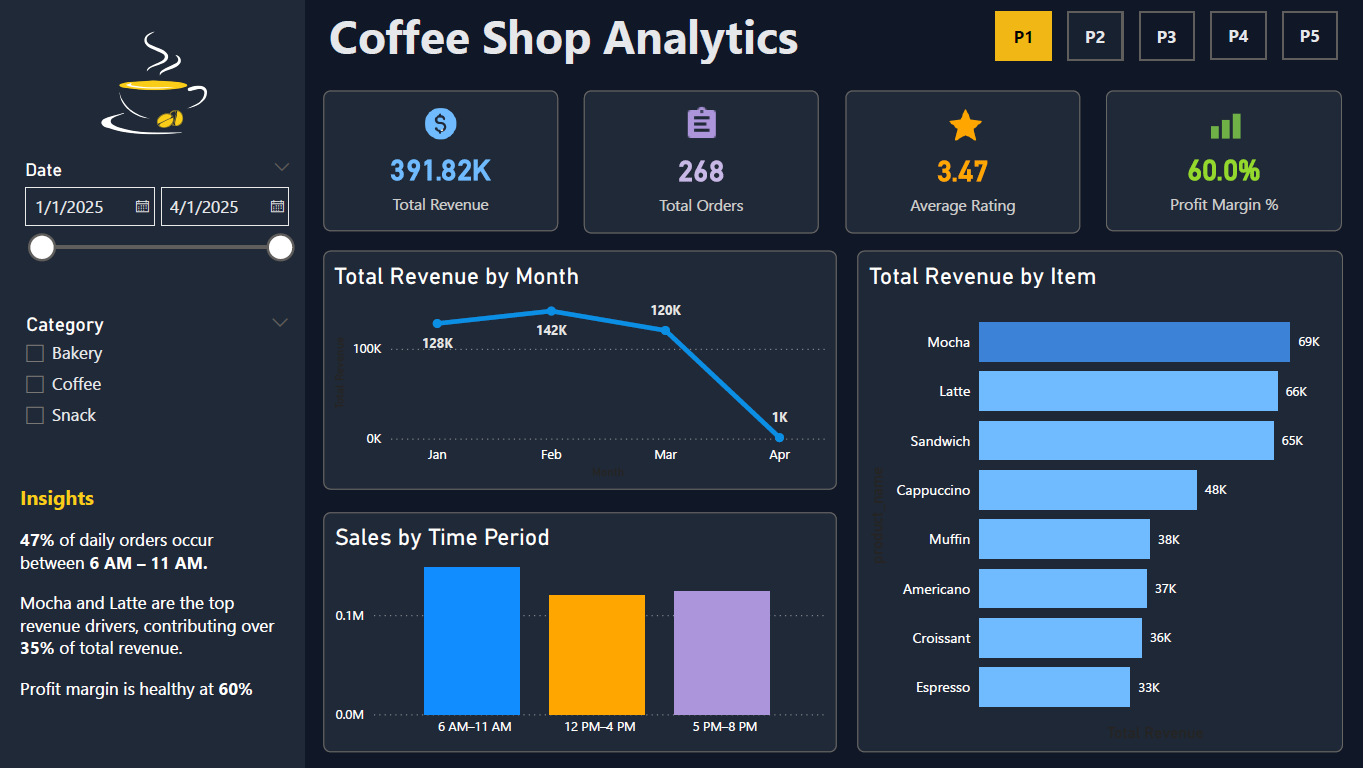

The page's visual inventory and layout, read from the dashboard file:
{"tool":"powerbi","page":{"name":"Page 1","canvas":[1280,720],"ordinal":0},"visuals":[{"type":"shape","box":[0,0,288,720],"z":0},{"type":"card","title":".","fields":{"Values":["MeasureTable.Total Revenue"]},"box":[305.4,85,219.5,132],"z":1000,"group":"g2"},{"type":"lineChart","fields":{"Y":["MeasureTable.Total Revenue"],"Category":["Date Table.Month"]},"box":[305.4,235.4,480.4,224],"z":1000},{"type":"card","title":".","fields":{"Values":["MeasureTable.Total Orders"]},"box":[549.5,85,220,133.6],"z":2000,"group":"g2"},{"type":"barChart","title":"Total Revenue by Item","fields":{"Category":["products.product_name"],"Y":["MeasureTable.Total Revenue"]},"box":[804.8,235.4,454.9,469.2],"z":2000},{"type":"card","title":".","fields":{"Values":["MeasureTable.Average Rating"]},"box":[794.1,85,220,133.6],"z":3000,"group":"g2"},{"type":"clusteredColumnChart","title":"Sales by Time Period","fields":{"Category":["orders.Time of Day"],"Y":["MeasureTable.Total Revenue"]},"box":[305.4,480.4,480.4,224.3],"z":3000},{"type":"card","title":".","fields":{"Values":["MeasureTable.Profit Margin %"]},"box":[1038.7,85,221.1,132],"z":4000,"group":"g2"},{"type":"slicer","fields":{"Values":["Date Table.Date"]},"box":[13.3,144.4,272.2,160],"z":4000},{"type":"slicer","title":"Category","fields":{"Values":["products.category"]},"box":[13.8,287.5,271.2,145],"z":5000},{"type":"textbox","box":[16,448,256,256],"z":6000},{"type":"image","box":[0,0,288,180],"z":7000},{"type":"group","id":"g1","title":"Group 2","box":[934.9,11.1,320,45],"z":8000},{"type":"shape","box":[265.6,4.8,528.1,55],"z":9000},{"type":"actionButton","title":"P1","box":[1068.9,11.2,52.5,45.5],"z":9000,"group":"g1"},{"type":"actionButton","title":"P1","box":[1135.7,11.1,52.5,45.5],"z":10000,"group":"g1"},{"type":"group","id":"g2","title":"Group 1","box":[305.4,85,954.4,133.6],"z":10000},{"type":"actionButton","title":"P1","box":[1202.6,11.1,52.5,45.5],"z":11000,"group":"g1"},{"type":"image","box":[334.4,98.9,162.2,35],"z":11000},{"type":"actionButton","title":"P1","box":[1001.9,11.2,52.5,45.5],"z":12000,"group":"g1"},{"type":"image","box":[578.9,98.9,161.1,35.6],"z":12000},{"type":"actionButton","title":"P1","box":[934.9,11.2,52.5,45.5],"z":13000,"group":"g1"},{"type":"image","box":[825,100,163.3,35],"z":13000},{"type":"image","box":[1068,101,162,35],"z":14000}]}

Visuals, with their boxes in screenshot pixels (x1, y1, x2, y2), scaled from the page's 1280x720 canvas onto the 1363x768 screenshot:
shape: x1=0, y1=0, x2=307, y2=767
"." card: x1=325, y1=91, x2=559, y2=231
lineChart - MeasureTable.Total Revenue x Date Table.Month: x1=325, y1=251, x2=837, y2=490
"." card: x1=585, y1=91, x2=819, y2=233
"Total Revenue by Item" barChart: x1=857, y1=251, x2=1341, y2=752
"." card: x1=846, y1=91, x2=1080, y2=233
"Sales by Time Period" clusteredColumnChart: x1=325, y1=512, x2=837, y2=752
"." card: x1=1106, y1=91, x2=1341, y2=231
slicer - Date Table.Date: x1=14, y1=154, x2=304, y2=325
"Category" slicer: x1=15, y1=307, x2=303, y2=461
textbox: x1=17, y1=478, x2=290, y2=751
image: x1=0, y1=0, x2=307, y2=192
"Group 2" group: x1=996, y1=12, x2=1336, y2=60
shape: x1=283, y1=5, x2=845, y2=64
"P1" actionButton: x1=1138, y1=12, x2=1194, y2=60
"P1" actionButton: x1=1209, y1=12, x2=1265, y2=60
"Group 1" group: x1=325, y1=91, x2=1341, y2=233
"P1" actionButton: x1=1281, y1=12, x2=1336, y2=60
image: x1=356, y1=105, x2=529, y2=143
"P1" actionButton: x1=1067, y1=12, x2=1123, y2=60
image: x1=616, y1=105, x2=788, y2=143
"P1" actionButton: x1=996, y1=12, x2=1051, y2=60
image: x1=878, y1=107, x2=1052, y2=144
image: x1=1137, y1=108, x2=1310, y2=145
